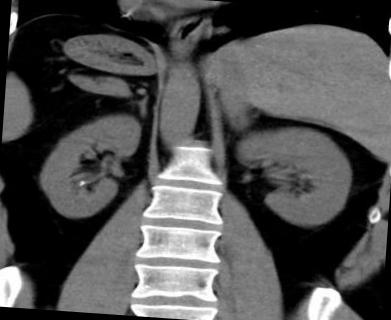Tas_Var: (78, 178, 86, 188)
